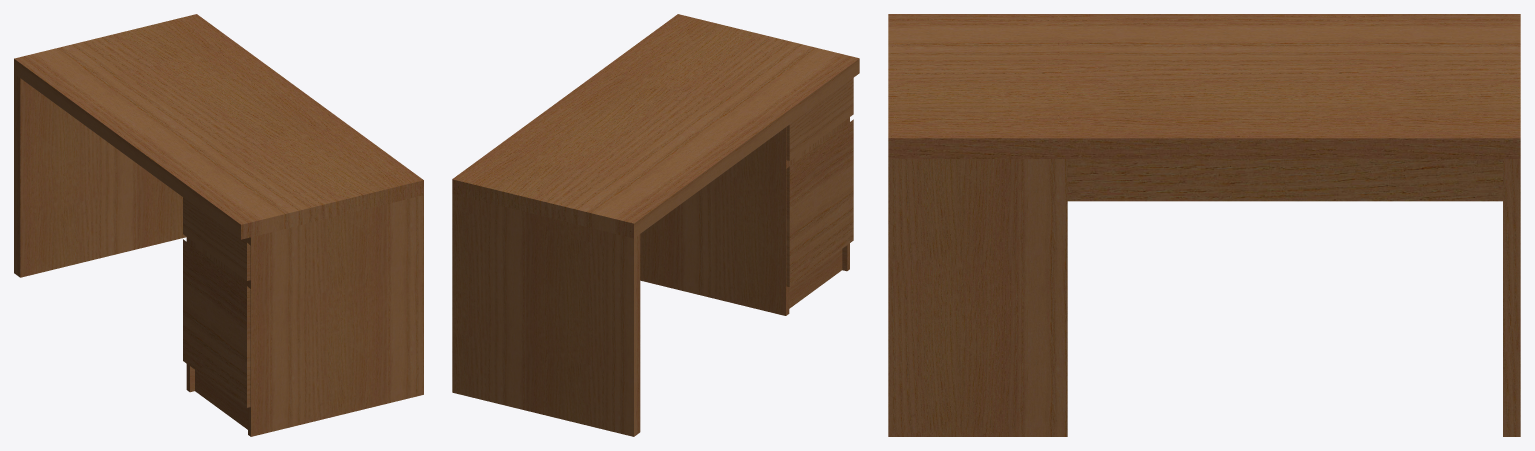
The model's file is malm desk dark ash.glb.
3 views of the same model, side by side, from view 1: azimuth 30°, elevation 25°; view 2: azimuth 150°, elevation 25°; view 3: azimuth 270°, elevation 25° (orthographic). The views are drawn at different scales.
Parts seen in each view (by area): view 1: Plane; view 2: Plane; view 3: Plane.
Part boxes in pixels (bbox=[...]): Plane: bbox=[14, 14, 423, 436]; Plane: bbox=[452, 14, 859, 436]; Plane: bbox=[888, 14, 1520, 436].
Size of the model in its own units: 25.62 by 28.73 by 55.12.
Materials: 2 (1 with a texture image).
